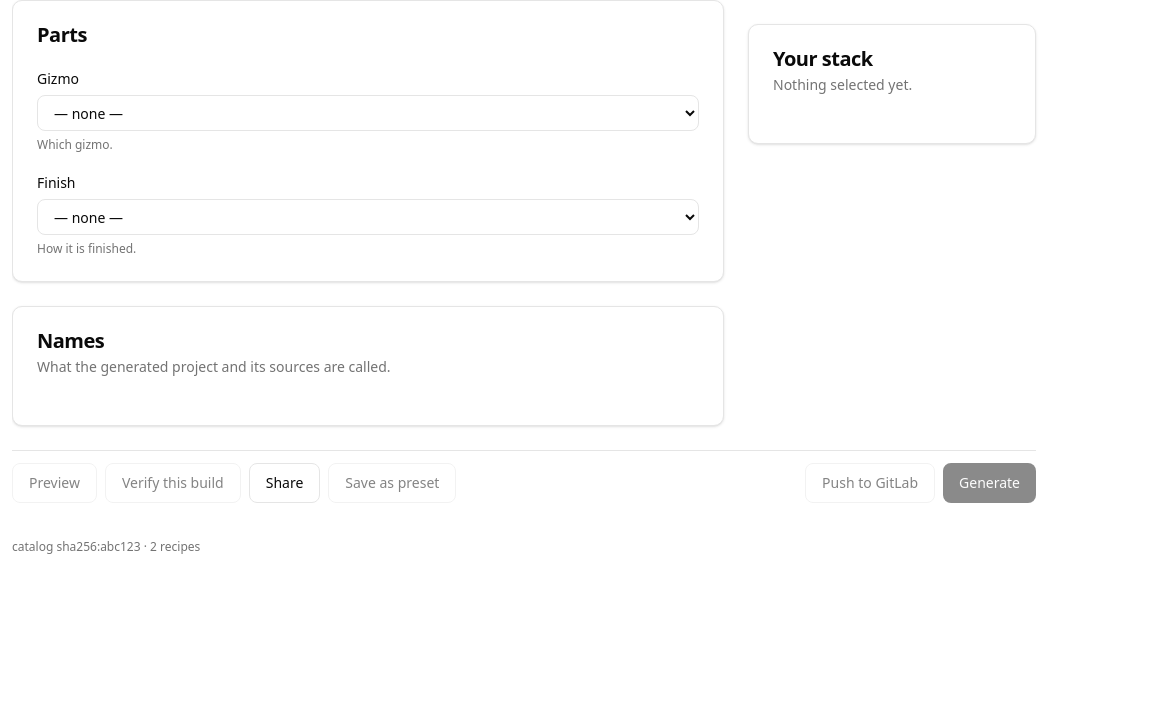
Test case: verification badges › a green badge carries the date it was verified, because one without is a claim
Select "Steel" in the dropdown labelled "Gizmo" at {"x": 368, "y": 113}, box [37,95,699,131]
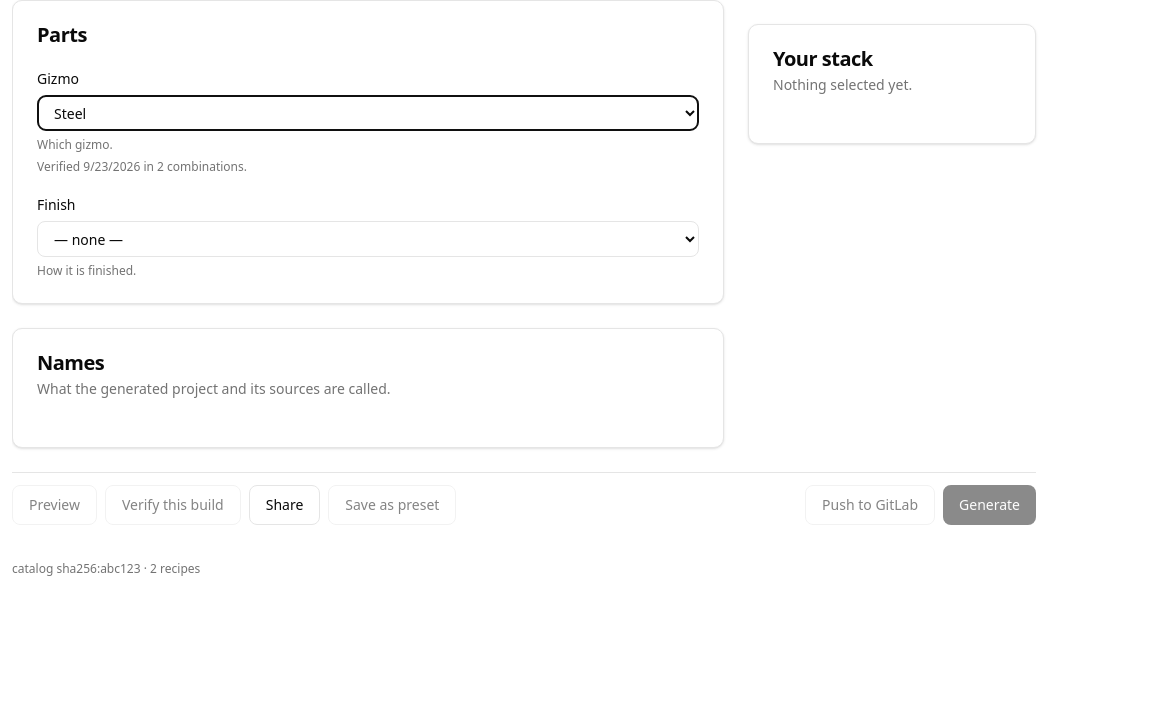
Expected: the text with test id "verified-line" shows "Verified", [37,158,83,175]
